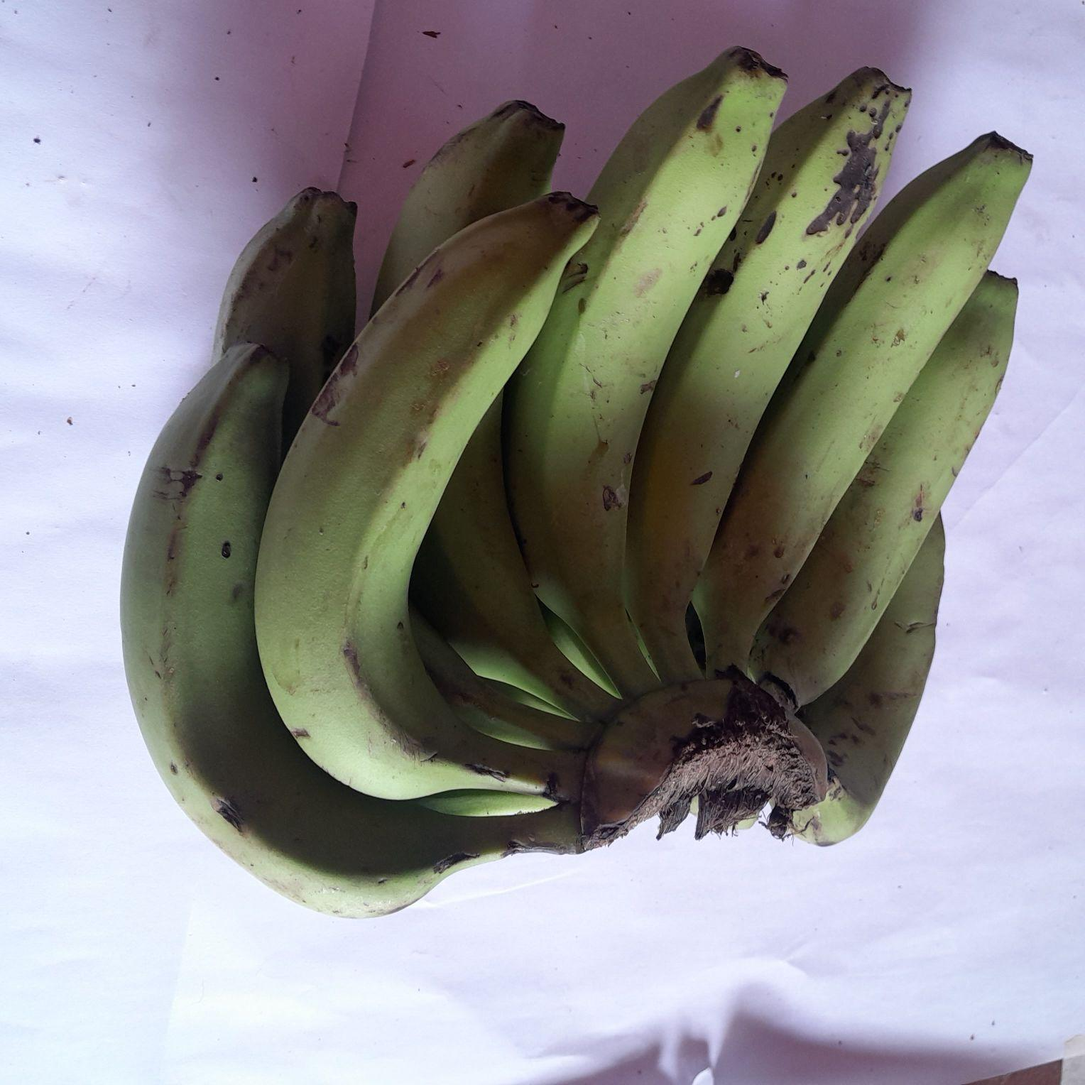Banana Unripe: (121, 343, 581, 915), (254, 193, 600, 801), (504, 49, 784, 697), (695, 134, 1030, 673), (625, 68, 909, 682), (750, 271, 1017, 705), (411, 396, 612, 723), (793, 519, 945, 844), (373, 102, 564, 310), (214, 186, 356, 450), (409, 606, 602, 750)
